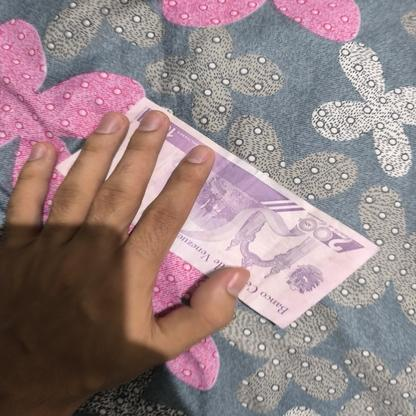one_hundred-back-vef: (54, 95, 381, 328)
